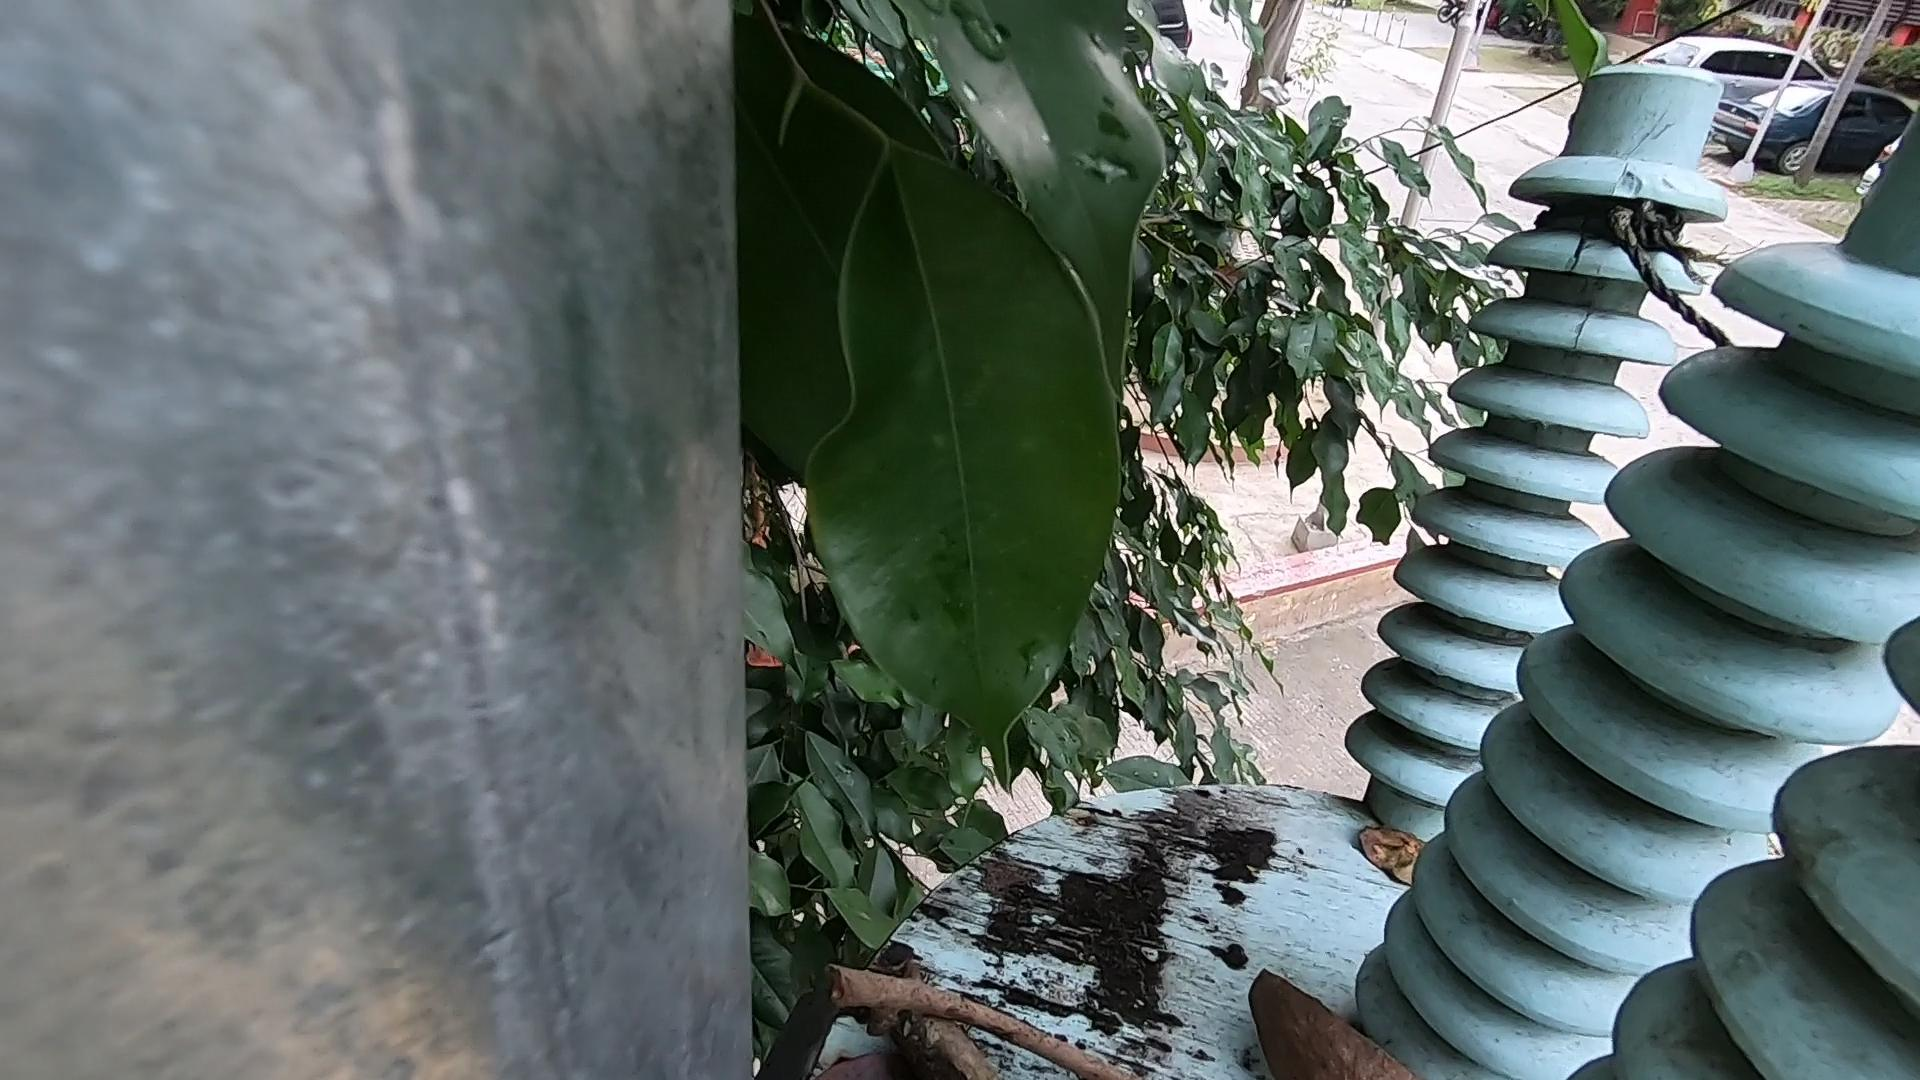leaf: (1360, 799, 1445, 898), (789, 1030, 934, 1080)
tree branch: (835, 965, 1149, 1080), (895, 951, 977, 1080)
